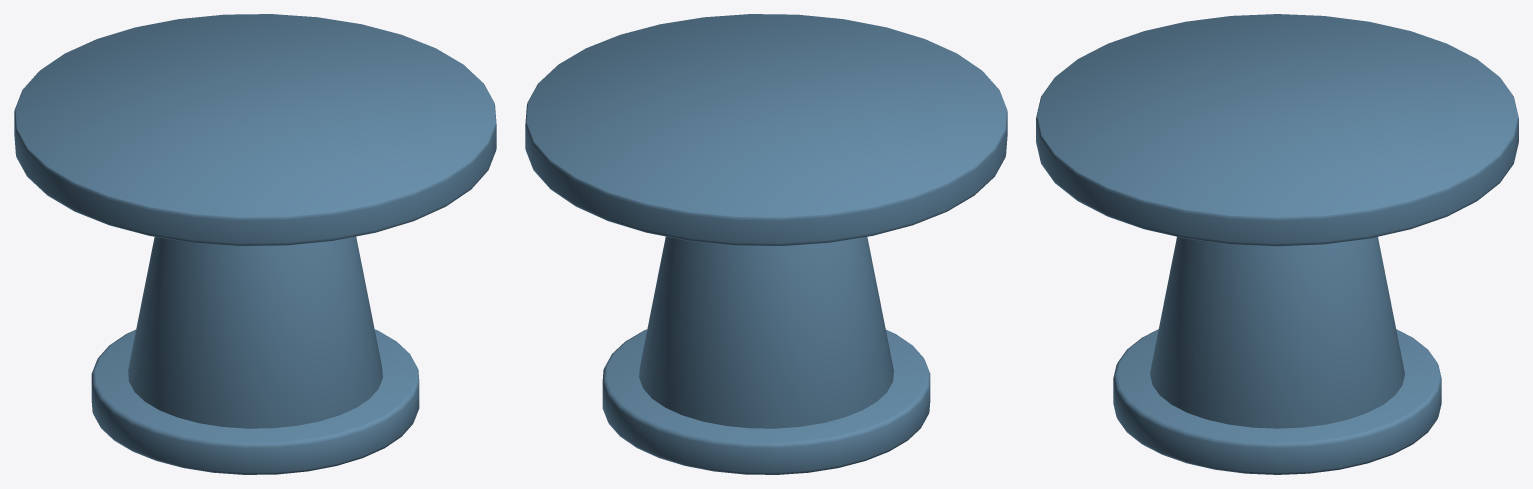
Rendered from kids-round-play-table.glb.
3 views of the same model, side by side, from view 1: azimuth 30°, elevation 25°; view 2: azimuth 150°, elevation 25°; view 3: azimuth 270°, elevation 25° (orthographic).
Visible parts, largest first — view 1: kids-round-play-table; view 2: kids-round-play-table; view 3: kids-round-play-table.
Part boxes in pixels (x1,y1,x2,y2): kids-round-play-table: [14, 14, 496, 474]; kids-round-play-table: [525, 14, 1007, 474]; kids-round-play-table: [1036, 14, 1518, 474].
Size of the model in its own units: 0.75 by 0.5 by 0.75.
